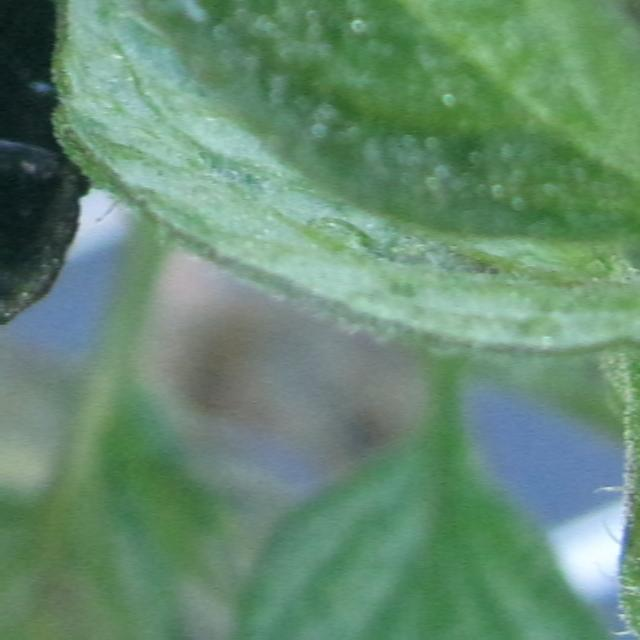Tomato leaf late blight: (0, 0, 369, 542)
